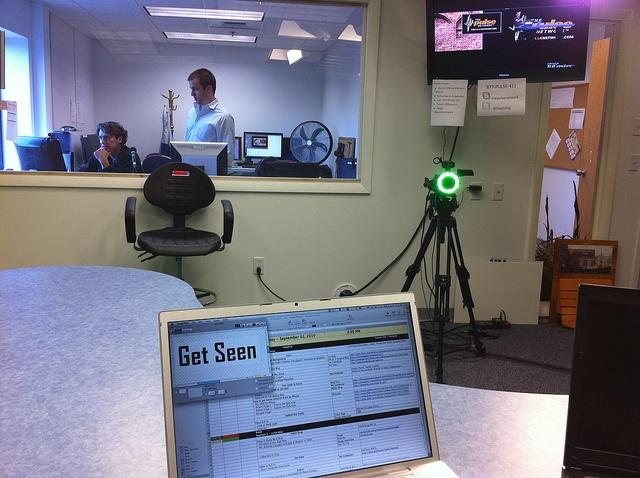AIO PC-Monitor-TV: (424, 0, 592, 85)
Kursi: (122, 161, 233, 271)
